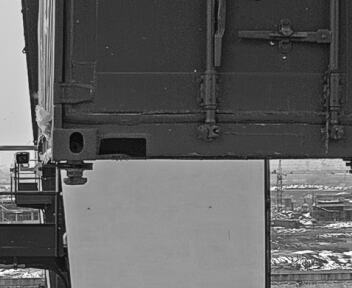twist_lock_1: (52, 154, 99, 192)
